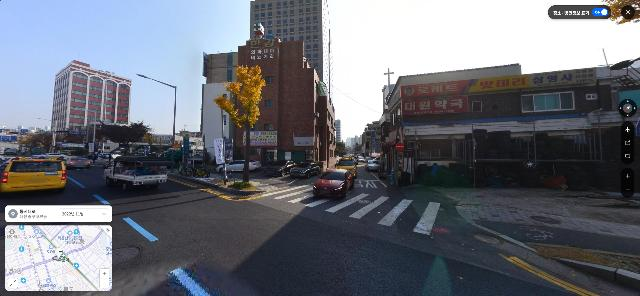ginkgo: (213, 63, 267, 184)
other: (95, 122, 152, 158)
